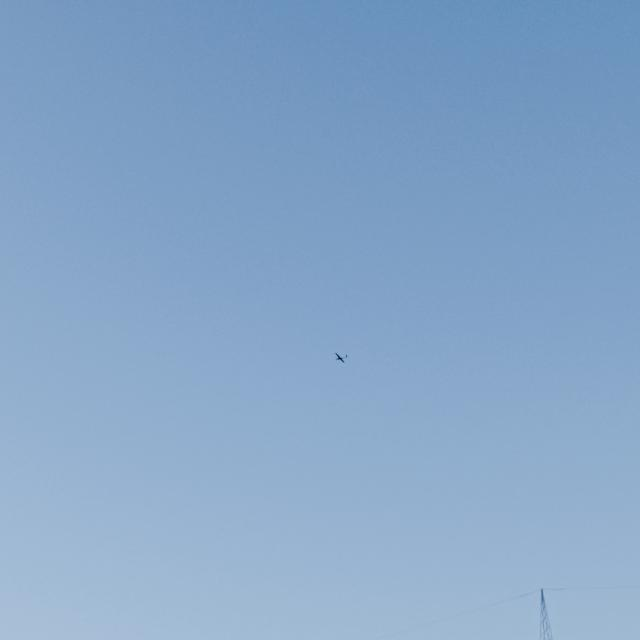Airaplan: (335, 353, 349, 363)
